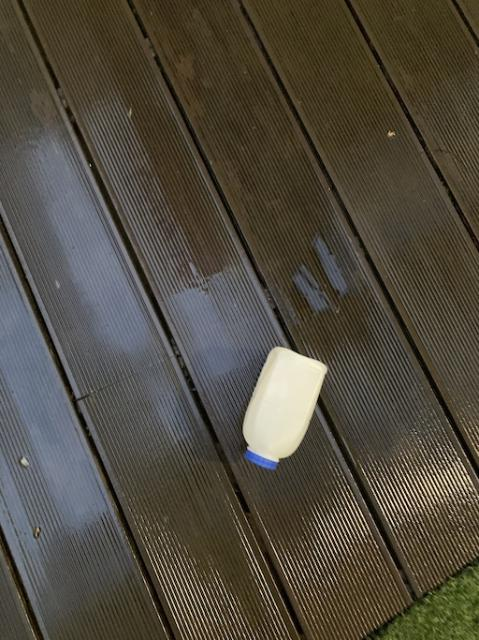plastic: (243, 346, 326, 469)
